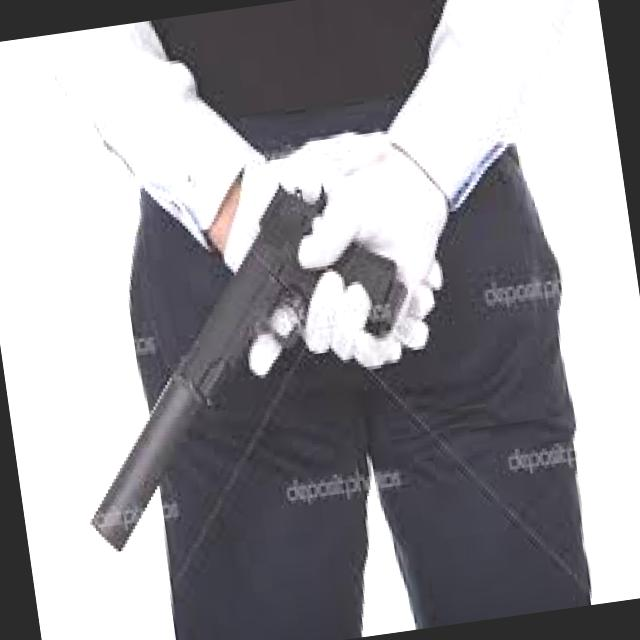handgun: (41, 165, 432, 552)
